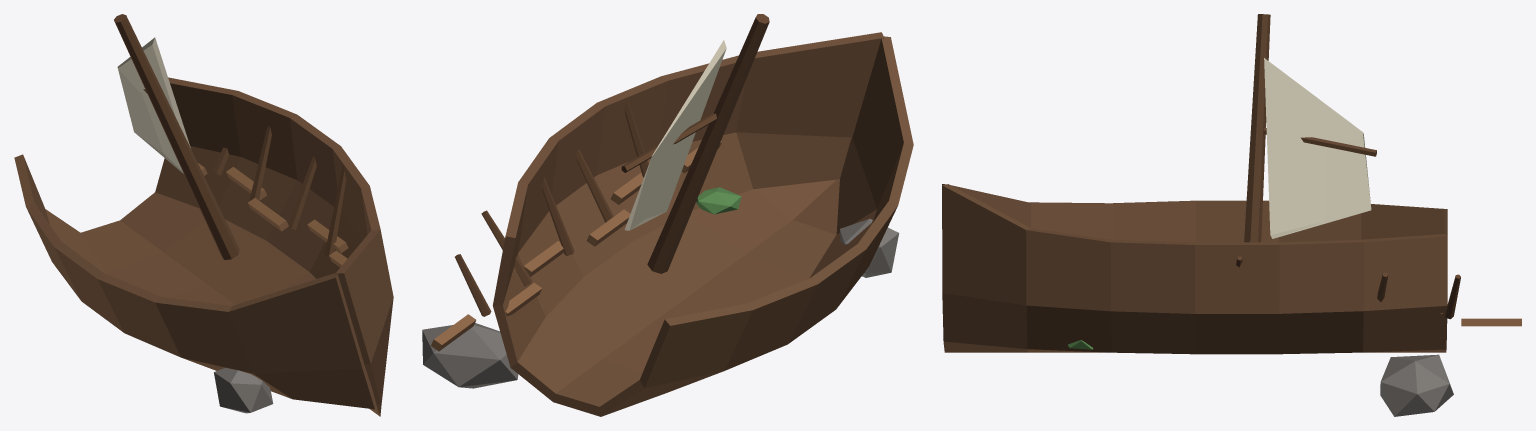
Rendered from Shipwreck.fbx.
3 renders of one model, left to right at view 1: azimuth 30°, elevation 25°; view 2: azimuth 150°, elevation 25°; view 3: azimuth 270°, elevation 25°, orthographic. The views are drawn at different scales.
Parts seen in each view (by area): view 1: Hull, Mast, Sail, Rocks, Planks; view 2: Hull, Mast, Rocks, Sail, Planks, Moss; view 3: Hull, Sail, Mast, Rocks, Planks.
Part boxes in pixels (x1=…): Hull: x1=14, y1=77, x2=393, y2=416; Mast: x1=114, y1=14, x2=346, y2=259; Sail: x1=117, y1=37, x2=190, y2=173; Rocks: x1=214, y1=368, x2=273, y2=413; Planks: x1=198, y1=163, x2=348, y2=267; Hull: x1=492, y1=32, x2=913, y2=416; Mast: x1=455, y1=14, x2=769, y2=316; Rocks: x1=422, y1=218, x2=899, y2=388; Sail: x1=624, y1=40, x2=726, y2=230; Planks: x1=431, y1=141, x2=721, y2=351; Moss: x1=696, y1=187, x2=741, y2=214; Hull: x1=942, y1=184, x2=1447, y2=354; Sail: x1=1264, y1=58, x2=1371, y2=238; Mast: x1=1236, y1=14, x2=1460, y2=319; Rocks: x1=1380, y1=354, x2=1453, y2=416; Planks: x1=1440, y1=313, x2=1521, y2=326.
Size of the model in its own units: 10.61 by 11.44 by 19.1.
